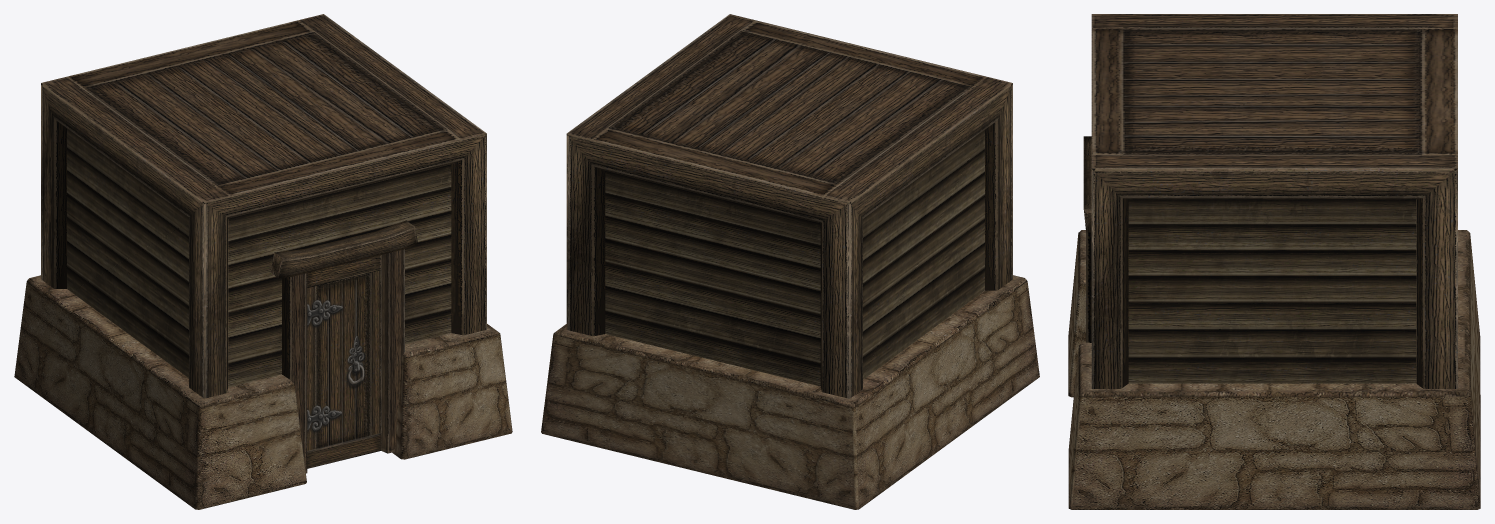
Rendered from House_4X4_01c.fbx.
3 renders of one model, left to right at view 1: azimuth 30°, elevation 25°; view 2: azimuth 150°, elevation 25°; view 3: azimuth 270°, elevation 25°, orthographic. The views are drawn at different scales.
Visible parts, largest first — view 1: House_4X4_01c; view 2: House_4X4_01c; view 3: House_4X4_01c.
Part boxes in pixels (box(x1,y1,x2,y2)): House_4X4_01c: box(14, 14, 512, 509); House_4X4_01c: box(541, 14, 1039, 509); House_4X4_01c: box(1068, 14, 1480, 509).
Bounding box in the file's own units: 4.49 × 4 × 4.5.
